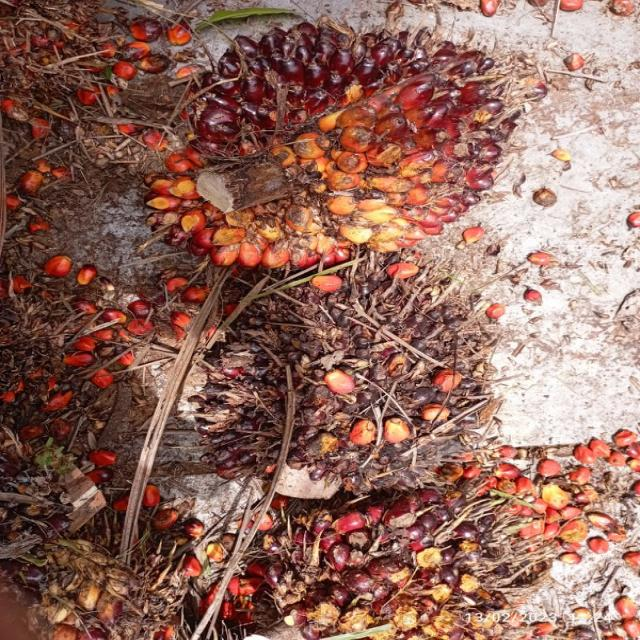fraksi 00: (203, 247, 496, 506), (215, 456, 530, 640)
fraksi 1: (130, 0, 530, 297)
